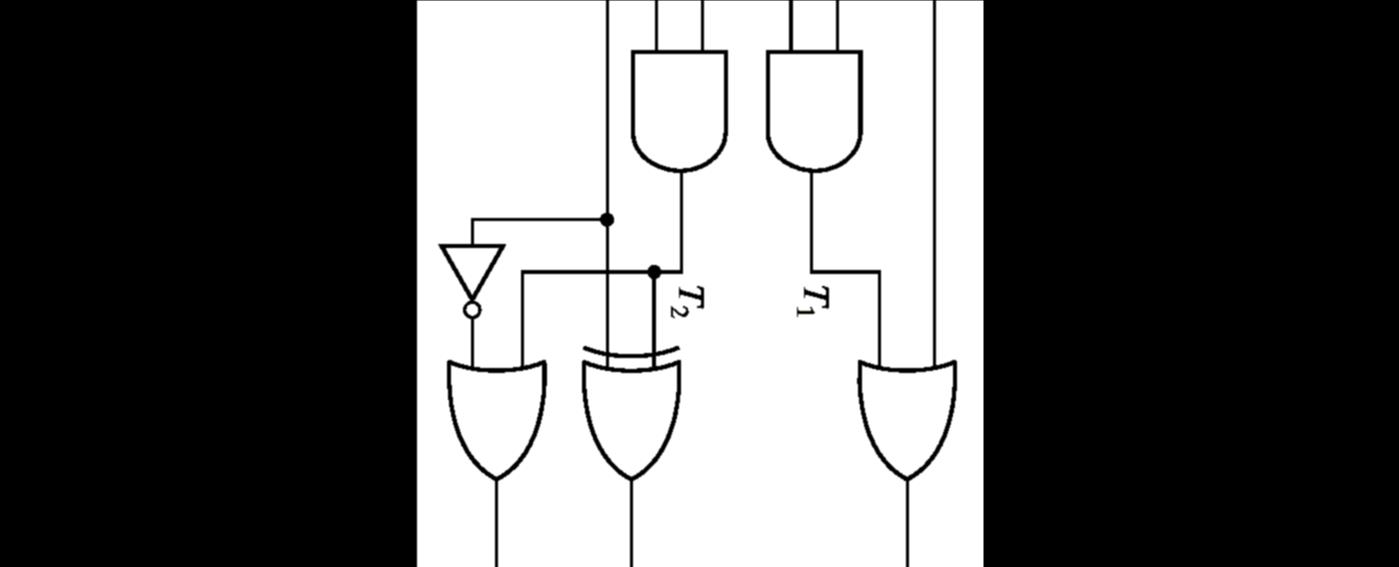and: (753, 23, 878, 188), (622, 30, 732, 187)
not: (428, 227, 513, 327)
or: (849, 343, 963, 489), (440, 349, 552, 491)
xor: (576, 336, 690, 492)
